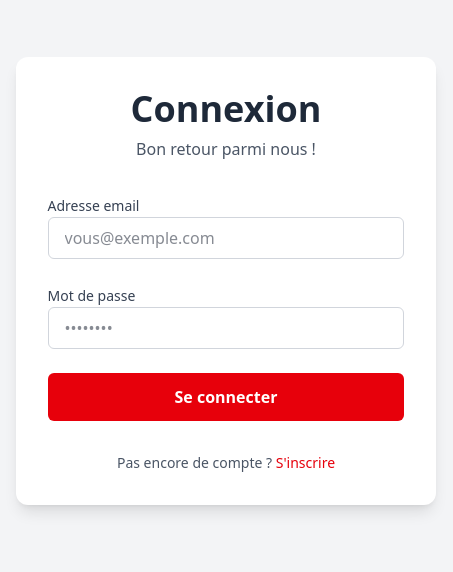
Test: Auth pages › shows login API error messages
The image size is (453, 572).
Type "bad@example.com" into the field labelled "Adresse email" at (226, 238), box [48,217,404,259]
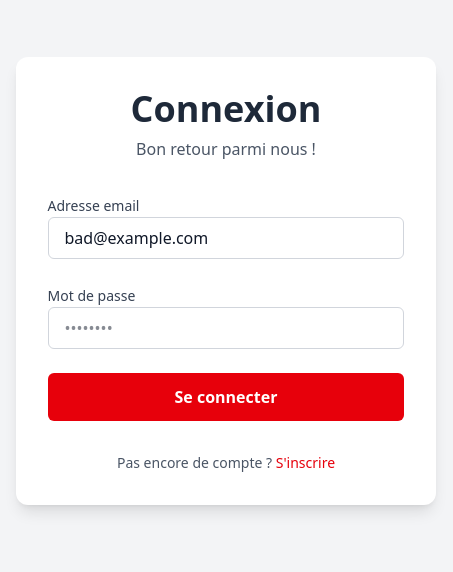
Type "bad" into the password field labelled "Mot de passe" at (226, 328), box [48,307,404,349]
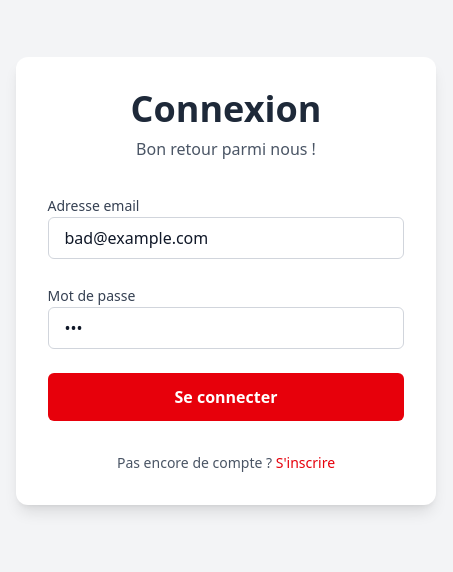
Click the button "Se connecter" at (226, 397), box [48,373,404,421]
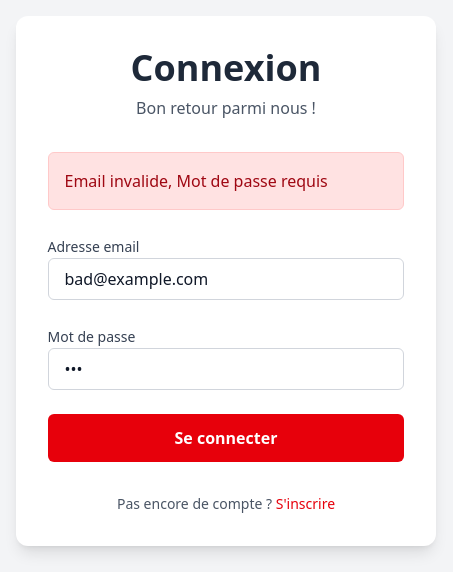
Now the text "Email invalide, Mot de passe requis" is shown, box [48,152,404,210]
